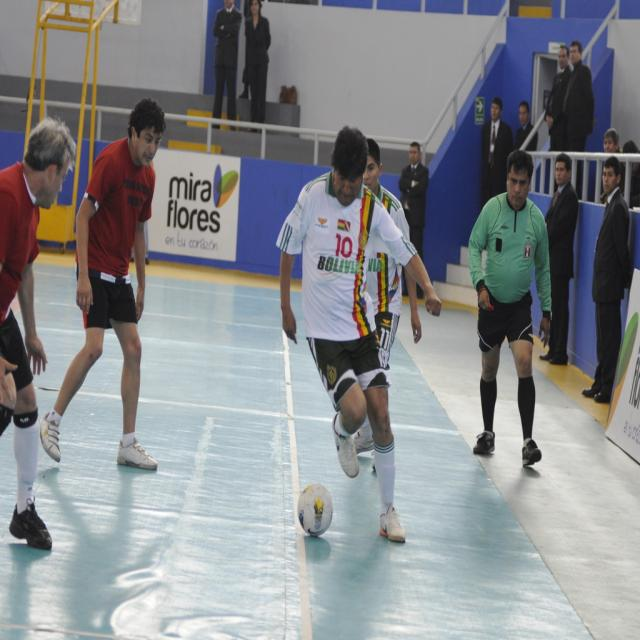Ball: (294, 478, 335, 539)
